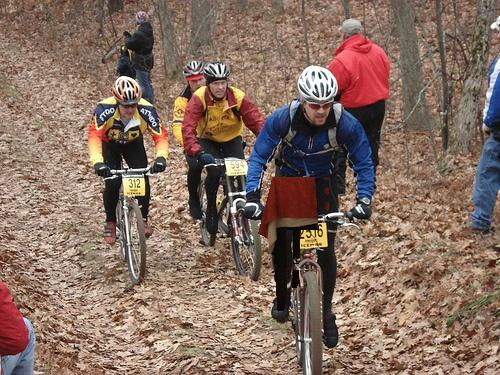tampered: (259, 178, 329, 311)
